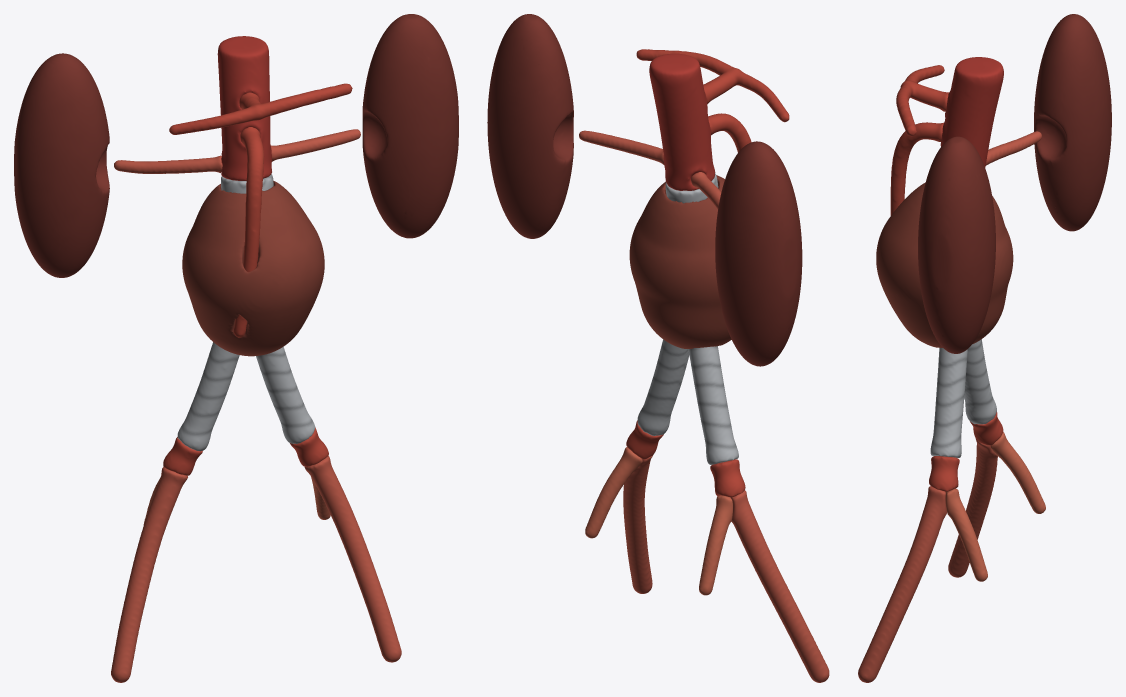
The model's file is artery_evar.glb.
3 views of the same model, side by side, from view 1: azimuth 30°, elevation 25°; view 2: azimuth 150°, elevation 25°; view 3: azimuth 270°, elevation 25° (orthographic). The views are drawn at different scales.
Parts seen in each view (by area): view 1: kidneys, aneurysm_sac, external_iliacs, stent_graft, aorta, renal_arteries, celiac_trunk, superior_mesenteric, common_iliacs; view 2: kidneys, aneurysm_sac, external_iliacs, stent_graft, aorta, internal_iliacs, celiac_trunk, common_iliacs, renal_arteries, superior_mesenteric; view 3: kidneys, aneurysm_sac, external_iliacs, stent_graft, aorta, internal_iliacs, celiac_trunk, superior_mesenteric, common_iliacs, renal_arteries.
Boxes of the visible parts, x1,y1,x2,y2 form: kidneys: (14, 14, 458, 277); aneurysm_sac: (182, 180, 324, 356); external_iliacs: (111, 455, 401, 682); stent_graft: (177, 174, 315, 451); aorta: (217, 36, 271, 180); renal_arteries: (114, 129, 360, 173); celiac_trunk: (169, 83, 352, 134); superior_mesenteric: (233, 127, 263, 337); common_iliacs: (163, 427, 328, 475); kidneys: (487, 14, 802, 366); aneurysm_sac: (629, 175, 731, 348); external_iliacs: (623, 455, 829, 682); stent_graft: (637, 173, 738, 464); aorta: (649, 53, 715, 190); internal_iliacs: (585, 447, 732, 595); celiac_trunk: (636, 49, 789, 122); common_iliacs: (626, 420, 745, 497); renal_arteries: (579, 130, 721, 209); superior_mesenteric: (708, 113, 751, 152); kidneys: (918, 14, 1111, 353); aneurysm_sac: (876, 182, 1013, 347); external_iliacs: (858, 438, 997, 682); stent_graft: (930, 339, 996, 457); aorta: (940, 57, 1003, 167); internal_iliacs: (945, 432, 1045, 581); celiac_trunk: (896, 65, 949, 136); superior_mesenteric: (890, 122, 943, 215); common_iliacs: (929, 412, 1003, 491); renal_arteries: (985, 131, 1041, 165).
Bounding box in the file's own units: 17.44 × 26.79 × 10.72.
